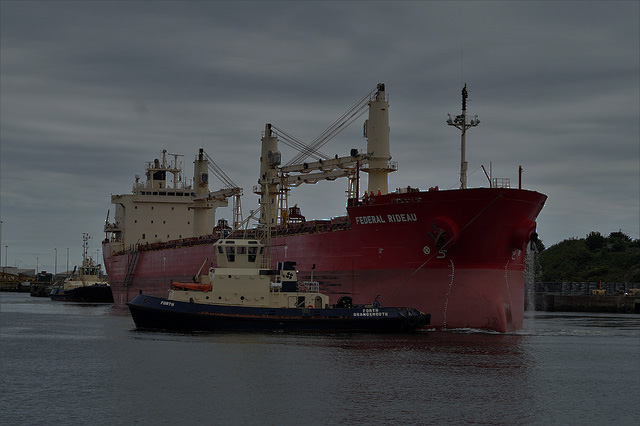bulk carrier: (102, 86, 551, 332)
tug_boat: (126, 213, 437, 338), (54, 233, 106, 305)
